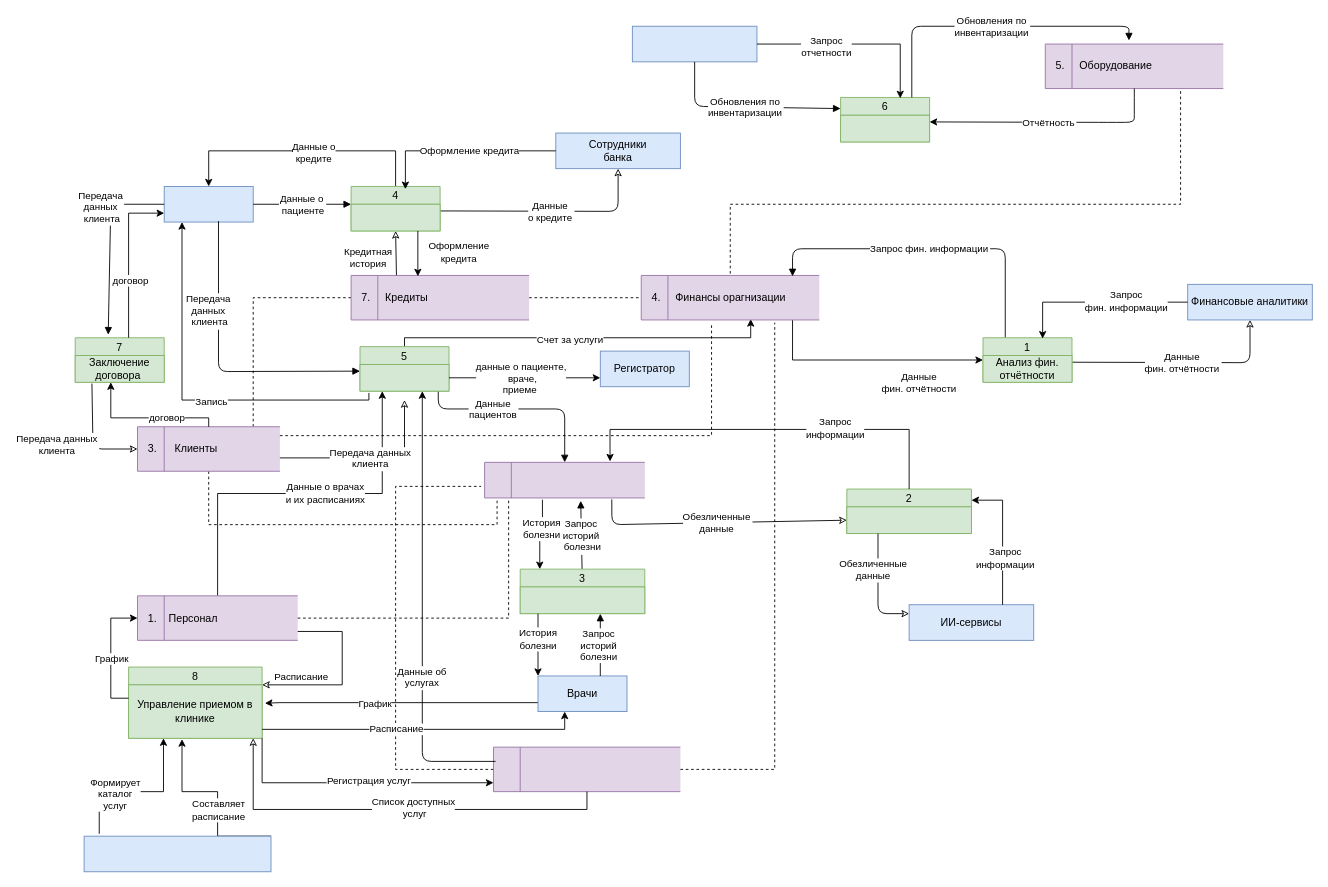
Image size: 1328x887. Some labels were removed from this diagram. Each missing label, with the centre of its shape:
2. Медицинские услуги: point 586,769
6. Медицинские карты: point 564,479
Администратор: point 177,853
Анализ медицинских карт: point 908,520
Запись на прием: point 404,377
Инвентаризация: point 885,128
Инженер по оборудованию: point 694,43
Пациенты: point 208,204
Предоставление кредиа: point 395,217
Прием пациента: point 582,600
